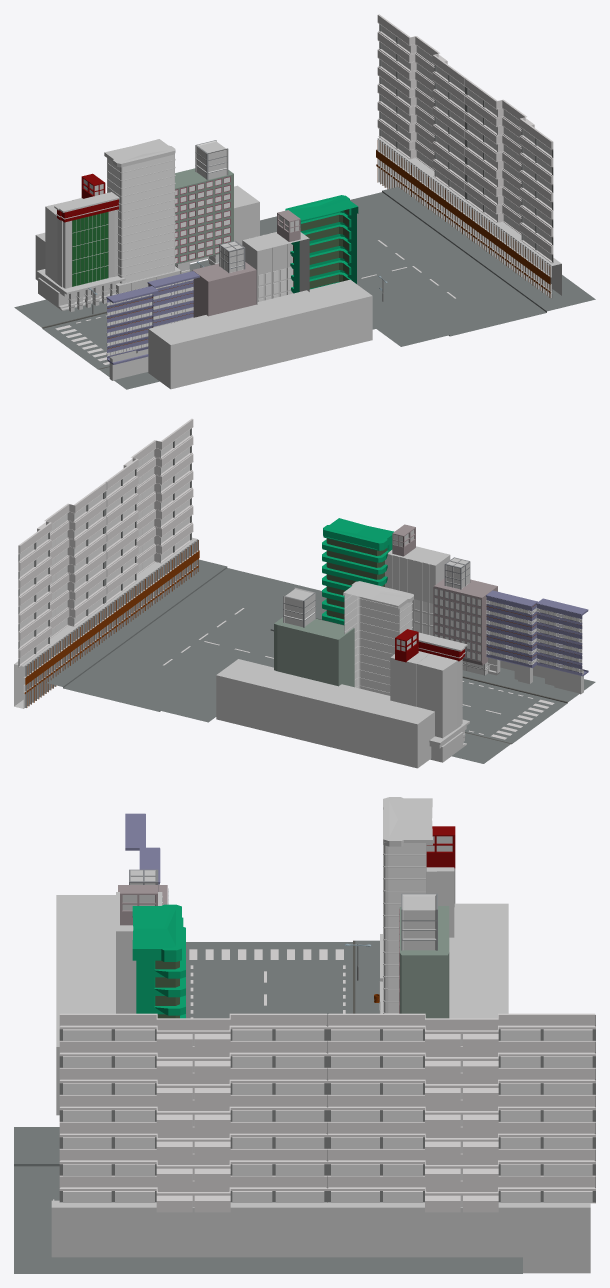
The model's file is street.fbx.
The picture shows the model from 3 angles, top to bottom: view 1: azimuth 30°, elevation 25°; view 2: azimuth 150°, elevation 25°; view 3: azimuth 270°, elevation 25°; orthographic projection. The views are drawn at different scales.
Visible parts, largest first — view 1: Cube.043, Plane.007, Cube.020, Cube.046, Cube.023, Cube.025, Cube.017, Plane, Cube.014, Cube.011, Cube.030, Cube.006 (+17 smaller); view 2: Cube.043, Plane.007, Cube.042, Cube.046, Plane, Cube.025, Cube.023, Cube.011, Cube.017, Cube.014, Cube.032, Cube.006 (+13 smaller); view 3: Cube.043, Cube.046, Plane.007, Plane, Cube.020, Cube.042, Cube.023, Cube.025, Cube.017, Cube.018, Cube.047, Cube.029 (+6 smaller).
Part boxes in pixels (box(x1,y1,x2,y2)): Cube.043: box(377, 14, 553, 263); Plane.007: box(260, 186, 595, 346); Cube.020: box(148, 279, 372, 389); Cube.046: box(376, 137, 561, 298); Cube.023: box(107, 151, 175, 283); Cube.025: box(175, 168, 233, 264); Cube.017: box(290, 208, 356, 293); Plane: box(14, 260, 375, 389); Cube.014: box(242, 232, 309, 304); Cube.011: box(192, 262, 256, 317); Cube.030: box(72, 212, 108, 286); Cube.006: box(106, 294, 152, 358); Cube.043: box(18, 418, 193, 667); Plane.007: box(46, 559, 326, 722); Cube.042: box(216, 659, 434, 768); Cube.046: box(14, 537, 199, 708); Plane: box(451, 667, 595, 763); Cube.025: box(274, 617, 354, 687); Cube.023: box(344, 593, 412, 695); Cube.011: box(433, 578, 497, 665); Cube.017: box(322, 536, 392, 624); Cube.014: box(385, 546, 450, 635); Cube.032: box(416, 654, 462, 738); Cube.006: box(536, 605, 582, 675); Cube.043: box(59, 1013, 595, 1212); Cube.046: box(51, 1199, 590, 1273); Plane.007: box(14, 1127, 522, 1273); Plane: box(186, 940, 380, 1018); Cube.020: box(56, 895, 115, 1115); Cube.042: box(449, 903, 508, 1018); Cube.023: box(383, 810, 426, 1013); Cube.025: box(399, 906, 449, 1018); Cube.017: box(136, 917, 185, 1018); Cube.018: box(132, 904, 181, 961); Cube.047: box(383, 797, 432, 846); Cube.029: box(401, 893, 437, 950).
Size of the model in its own units: 7833 by 2830 by 5729.
